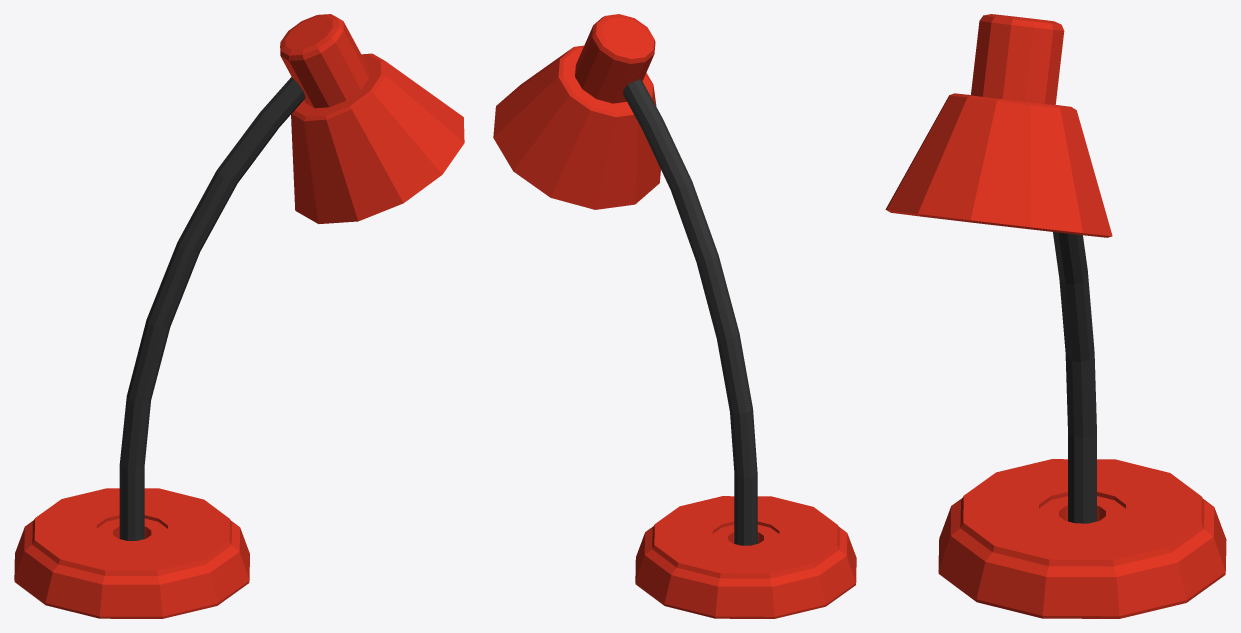
The model's file is red_lights_1.glb.
The picture shows the model from 3 angles, left to right: view 1: azimuth 30°, elevation 25°; view 2: azimuth 150°, elevation 25°; view 3: azimuth 270°, elevation 25°; orthographic projection. The views are drawn at different scales.
Parts seen in each view (by area): view 1: Circle.005, Lamp, Vert.012; view 2: Circle.005, Lamp, Vert.012; view 3: Lamp, Circle.005, Vert.012.
Part boxes in pixels (x1,y1,x2,y2): Circle.005: (280, 14, 464, 224); Lamp: (14, 488, 249, 618); Vert.012: (119, 77, 305, 540); Circle.005: (493, 14, 660, 209); Lamp: (635, 496, 856, 618); Vert.012: (623, 79, 757, 545); Lamp: (938, 459, 1226, 618); Circle.005: (885, 14, 1112, 237); Vert.012: (1053, 232, 1096, 523).
Bounding box in the file's own units: 1.17 × 1.52 × 0.7277.
